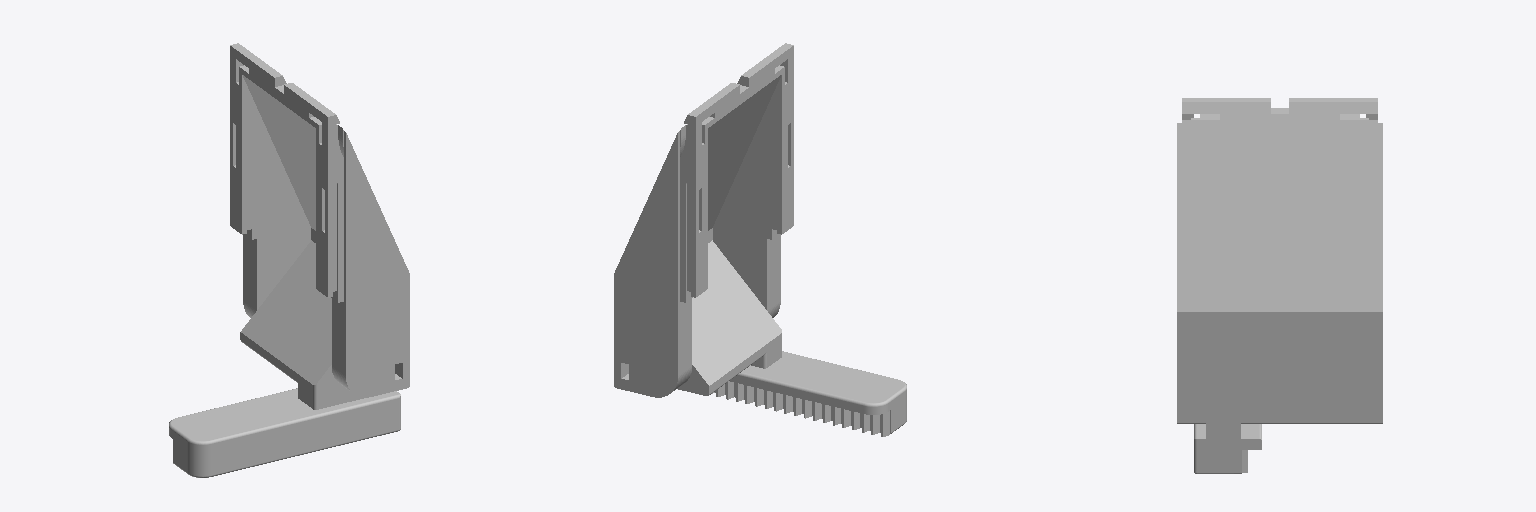
File: Prints_fingerRack.obj
The picture shows the model from 3 angles: view 1: azimuth 30°, elevation 25°; view 2: azimuth 150°, elevation 25°; view 3: azimuth 270°, elevation 25°; orthographic projection.
Parts seen in each view (by area): view 1: fingerRack; view 2: fingerRack; view 3: fingerRack.
Part boxes in pixels (x1,y1,x2,y2): fingerRack: (169, 43, 409, 477); fingerRack: (614, 43, 906, 436); fingerRack: (1177, 98, 1382, 473).
Size of the model in its own units: 0.064 by 0.1006 by 0.0554.